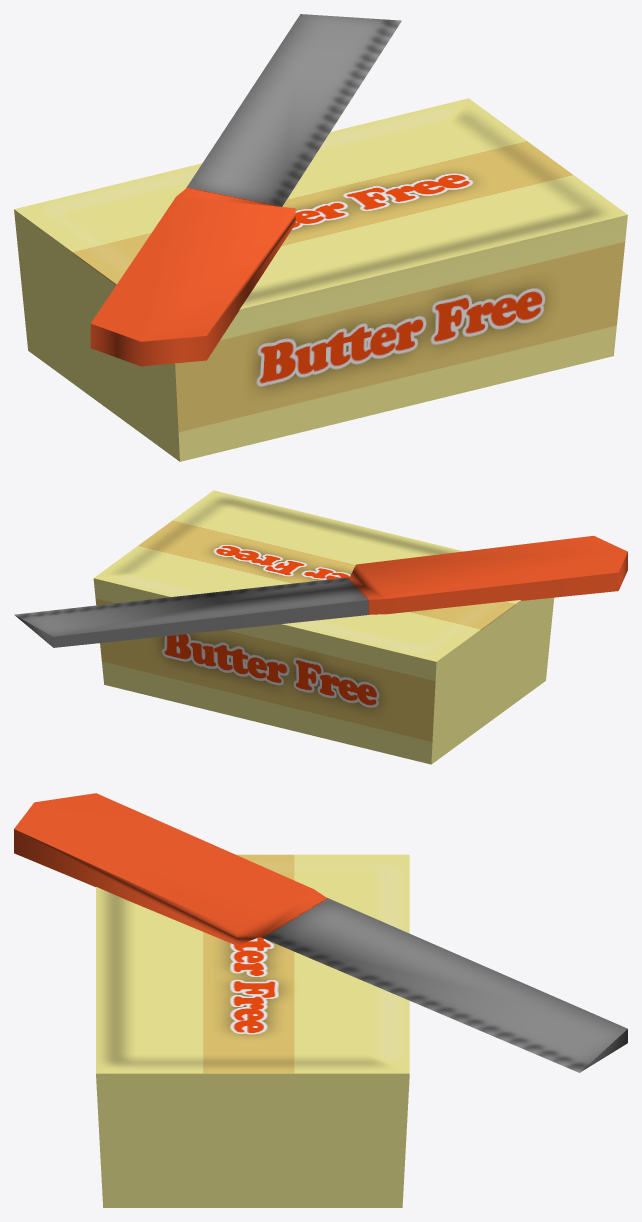
The model's file is butter_and_knife.fbx.
3 renders of one model, top to bottom at view 1: azimuth 30°, elevation 25°; view 2: azimuth 150°, elevation 25°; view 3: azimuth 270°, elevation 25°, orthographic. The views are drawn at different scales.
Parts seen in each view (by area): view 1: butter_and_knife; view 2: butter_and_knife; view 3: butter_and_knife.
Boxes of the visible parts, x1=… form: butter_and_knife: x1=14, y1=14, x2=627, y2=461; butter_and_knife: x1=14, y1=490, x2=627, y2=764; butter_and_knife: x1=14, y1=793, x2=627, y2=1207.
Size of the model in its own units: 1.54 by 0.4329 by 1.49.
Materials: 1 (1 with a texture image).
